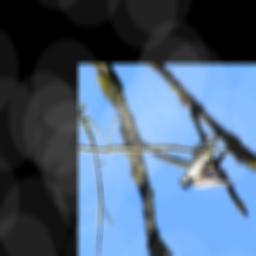Swallow: (177, 130, 235, 191)
